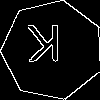K: (27, 25, 62, 71)
